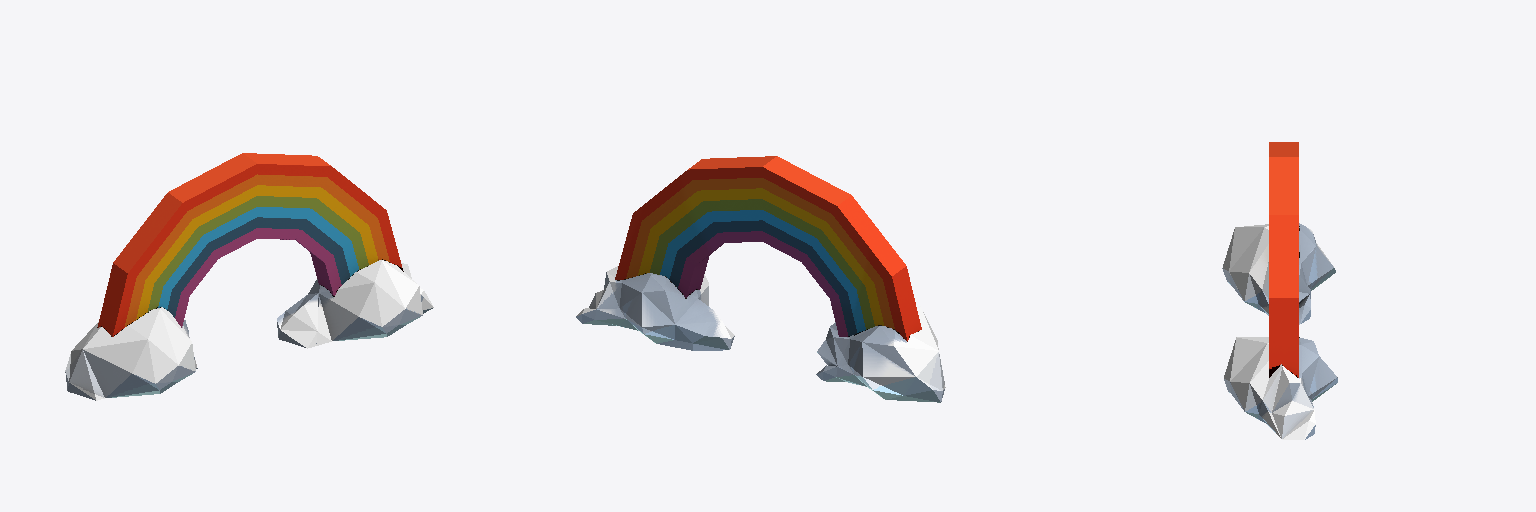
The picture shows the model from 3 angles: view 1: azimuth 30°, elevation 25°; view 2: azimuth 150°, elevation 25°; view 3: azimuth 270°, elevation 25°; orthographic projection.
Visible parts, largest first — view 1: rainbow; view 2: rainbow; view 3: rainbow.
Boxes of the visible parts, x1,y1,x2,y2 form: rainbow: [65, 153, 433, 400]; rainbow: [576, 156, 945, 402]; rainbow: [1222, 142, 1337, 439].
Bounding box in the file's own units: 2.44 × 1.25 × 0.6756.
Materials: 1 (1 with a texture image).